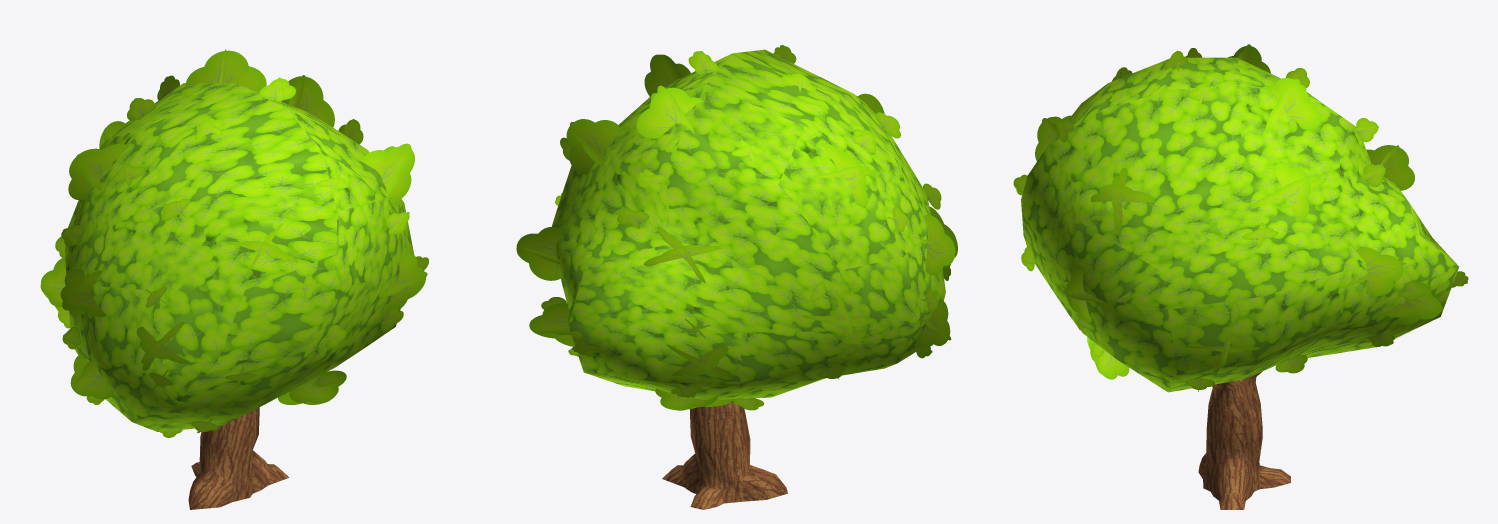
Rendered from leaf_tree_b.fbx.
The picture shows the model from 3 angles, left to right: view 1: azimuth 30°, elevation 25°; view 2: azimuth 150°, elevation 25°; view 3: azimuth 270°, elevation 25°; orthographic projection.
Visible parts, largest first — view 1: leaves_b, leaf_tree_b; view 2: leaves_b, leaf_tree_b; view 3: leaves_b, leaf_tree_b.
Boxes of the visible parts, x1,y1,x2,y2 form: leaves_b: [40, 49, 428, 437]; leaf_tree_b: [188, 407, 289, 509]; leaves_b: [516, 45, 957, 410]; leaf_tree_b: [662, 401, 787, 509]; leaves_b: [1013, 44, 1468, 392]; leaf_tree_b: [1198, 371, 1290, 509].
Bounding box in the file's own units: 369 × 379 × 372.
